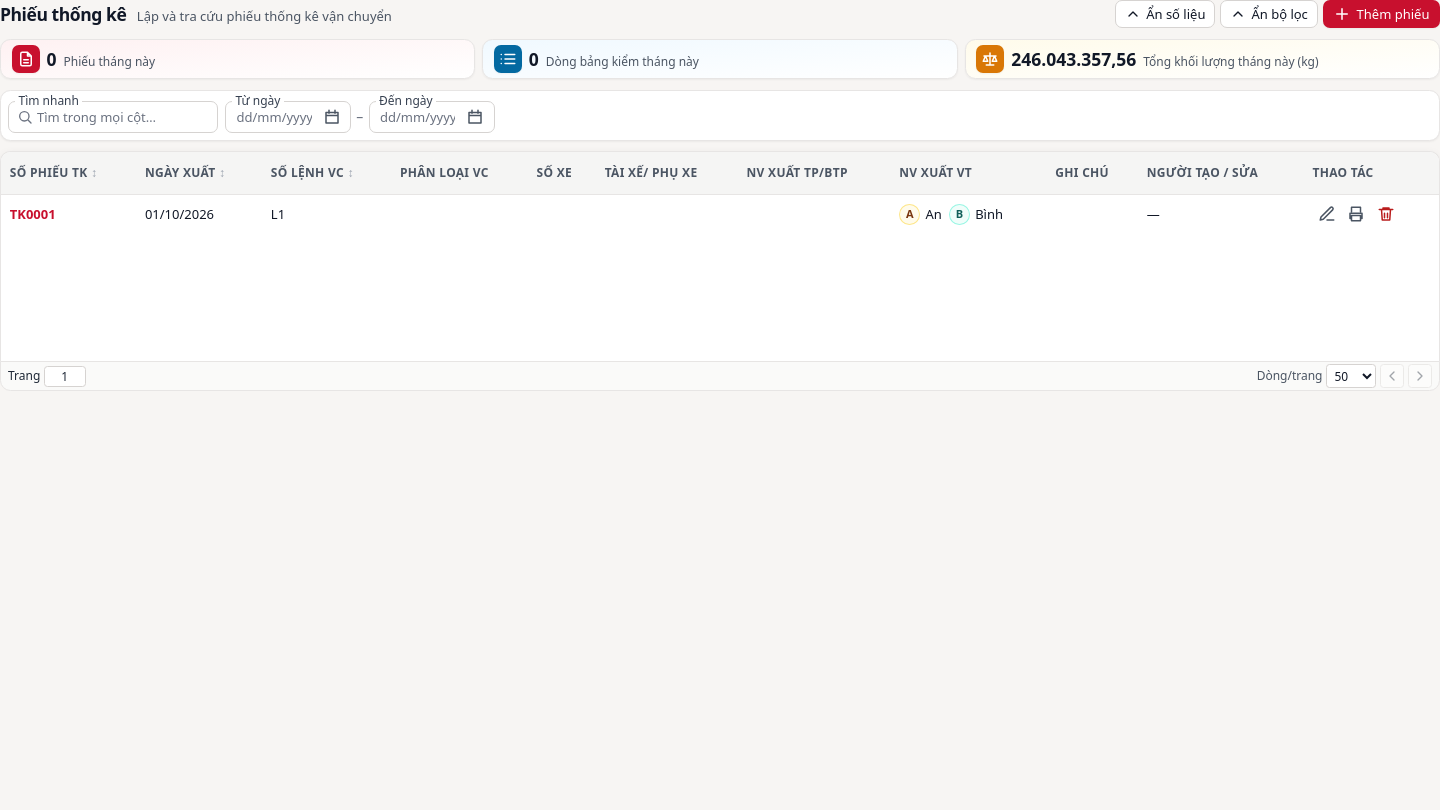
Test: PlansPage › xác nhận xóa → gọi delete và hiện toast thành công
Click the button with test id "delete-TK0001".
click(1386, 214)  # box [1372,200,1400,228]
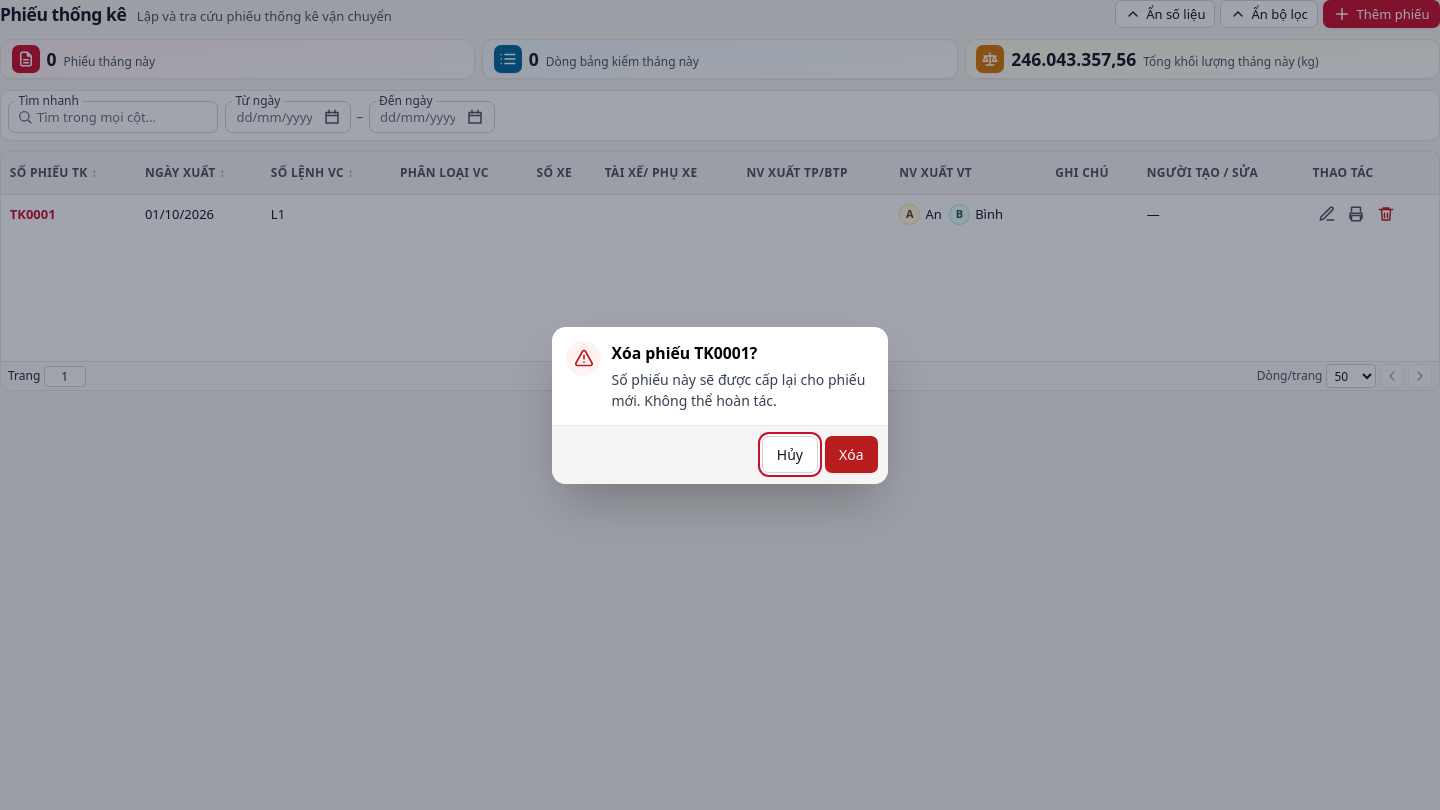
Click the button with test id "confirm-ok".
click(851, 454)  # box [825,436,878,473]
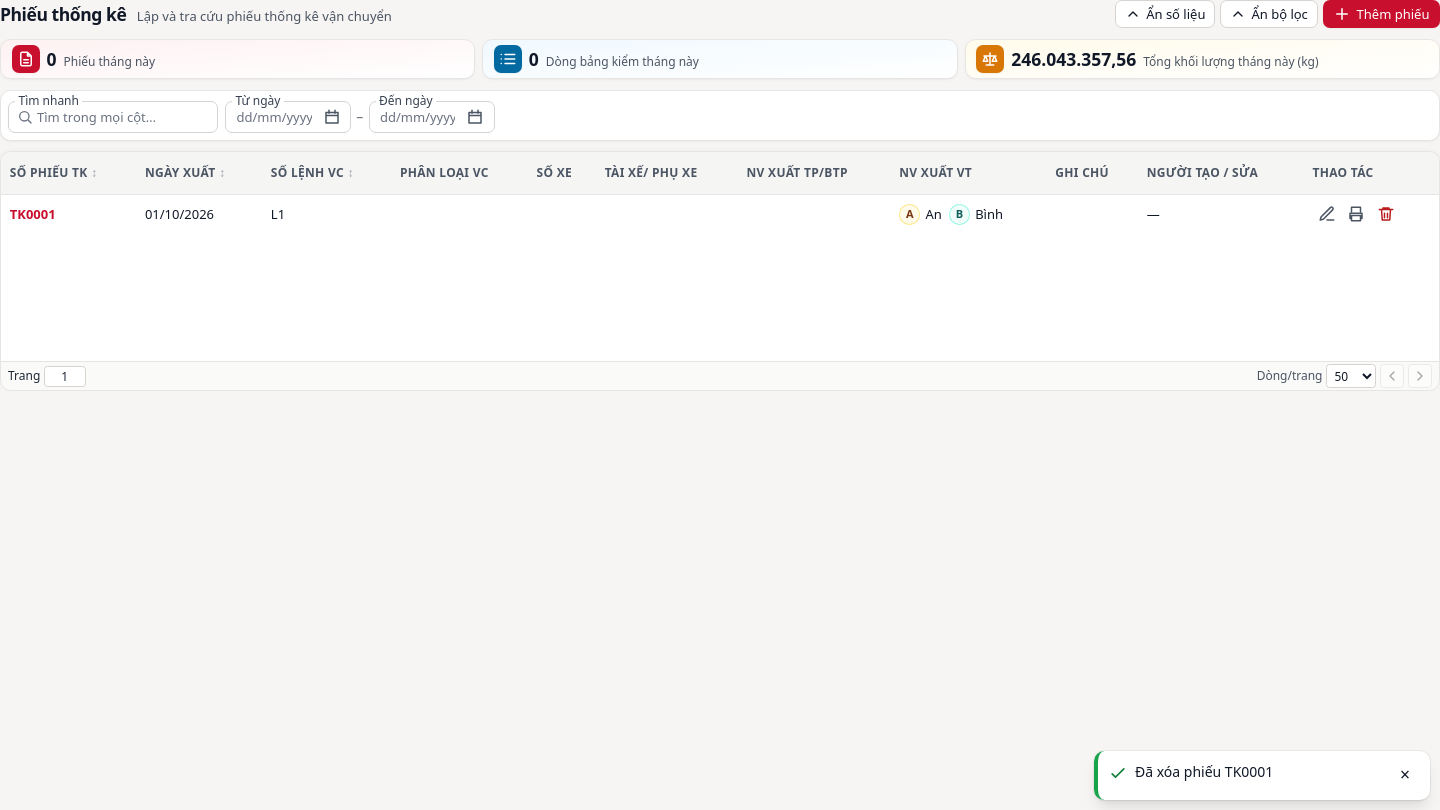
Result: the message with test id "toast-success" shows "Đã xóa phiếu TK0001" at [1135,762,1273,781]
